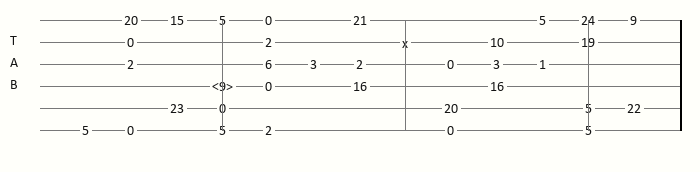0: (127, 124, 138, 137), (127, 36, 138, 49), (219, 102, 230, 115), (265, 14, 276, 27), (265, 80, 276, 93), (447, 58, 458, 71), (447, 124, 458, 137)
1: (539, 58, 550, 71)
10: (490, 36, 508, 49)
15: (170, 14, 188, 27)
16: (353, 80, 371, 93), (490, 80, 508, 93)
19: (581, 36, 599, 49)
2: (127, 58, 138, 71), (265, 124, 276, 137), (265, 36, 276, 49), (356, 58, 367, 71)
20: (124, 14, 142, 27), (444, 102, 462, 115)
21: (353, 14, 371, 27)
22: (627, 102, 645, 115)
23: (170, 102, 188, 115)
24: (581, 14, 599, 27)
3: (310, 58, 321, 71), (493, 58, 504, 71)
5: (82, 124, 93, 137), (219, 14, 230, 27), (219, 124, 230, 137), (539, 14, 550, 27), (585, 124, 596, 137), (585, 102, 596, 115)
6: (265, 58, 276, 71)
9: (630, 14, 641, 27)
harmonic: (212, 80, 237, 93)
x: (402, 37, 412, 48)
